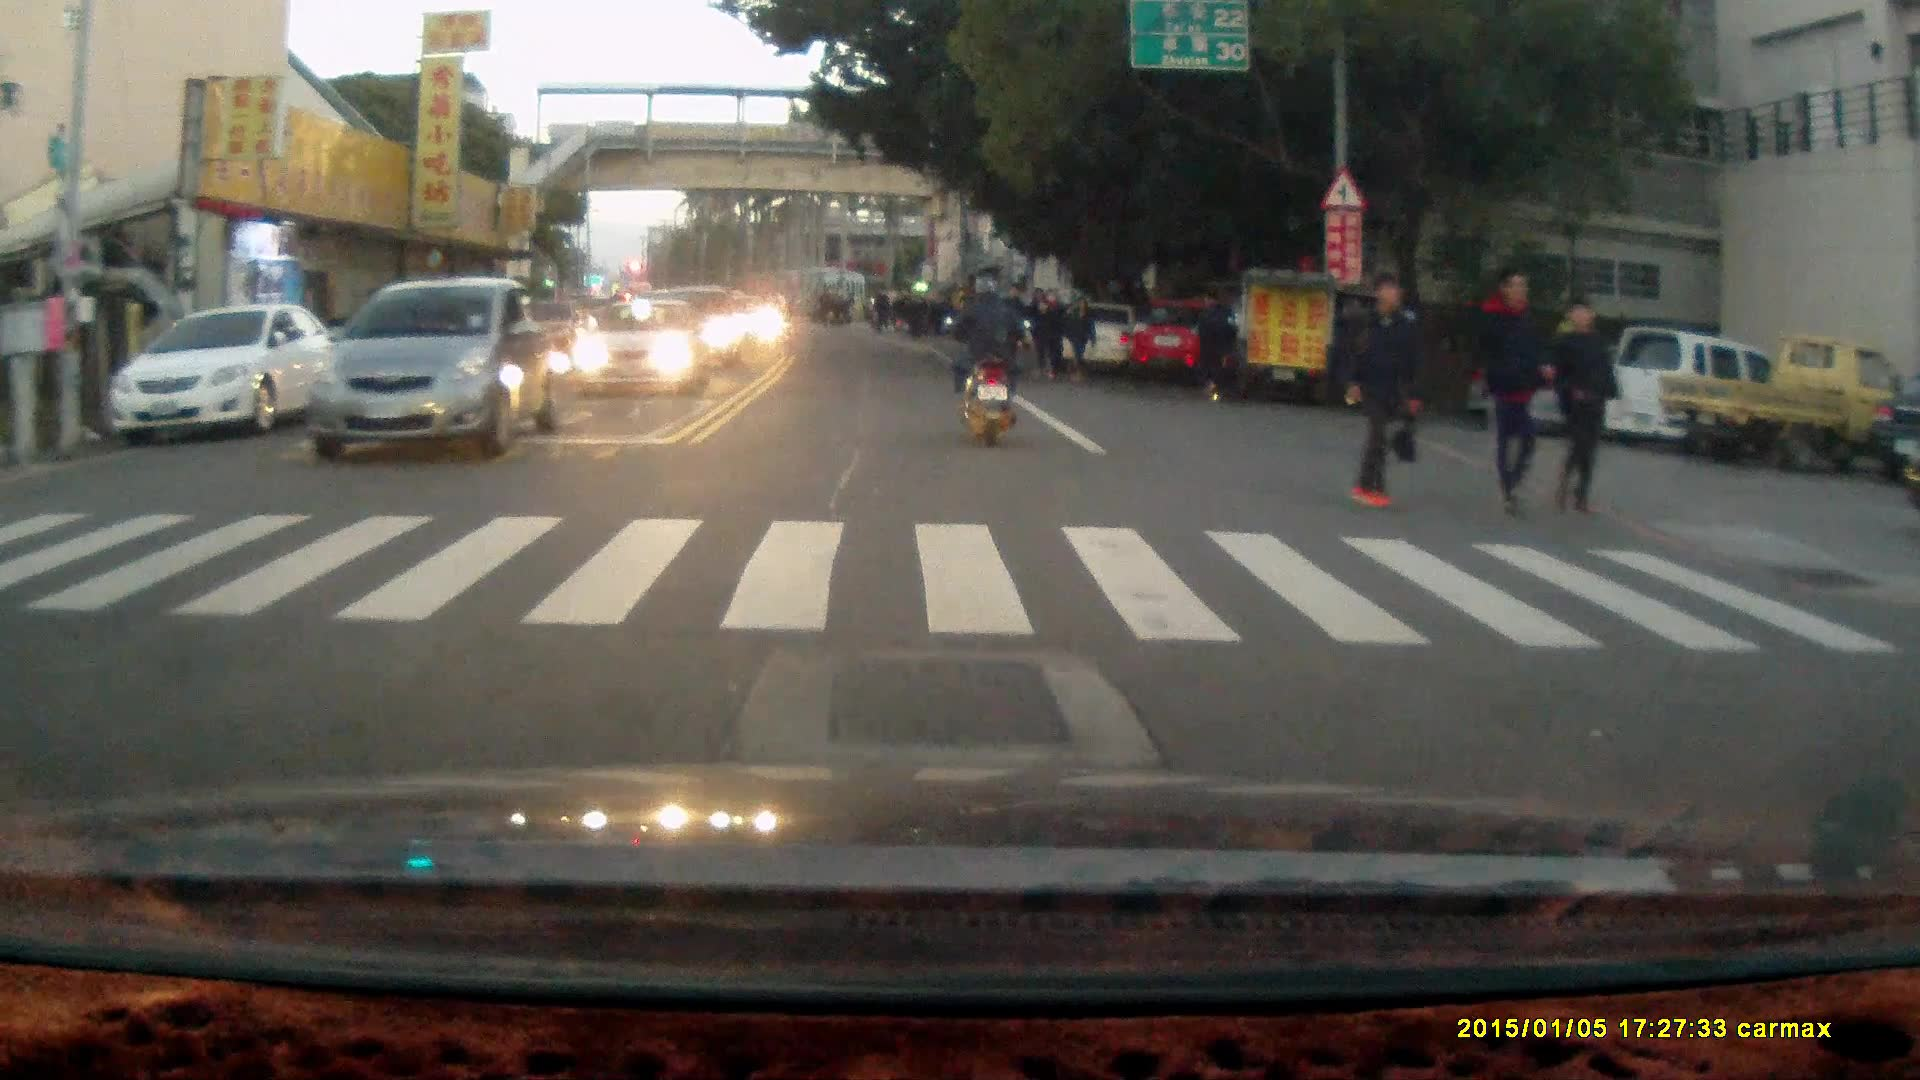pedestrian: (1474, 263, 1557, 522), (1338, 272, 1427, 511), (1542, 291, 1616, 519), (1190, 284, 1237, 406), (1025, 286, 1055, 380), (1066, 292, 1097, 378)
rider: (942, 271, 1028, 449)
vehicle: (309, 278, 566, 458), (1652, 336, 1909, 468), (107, 300, 339, 440), (571, 298, 706, 397), (1123, 298, 1245, 387)
